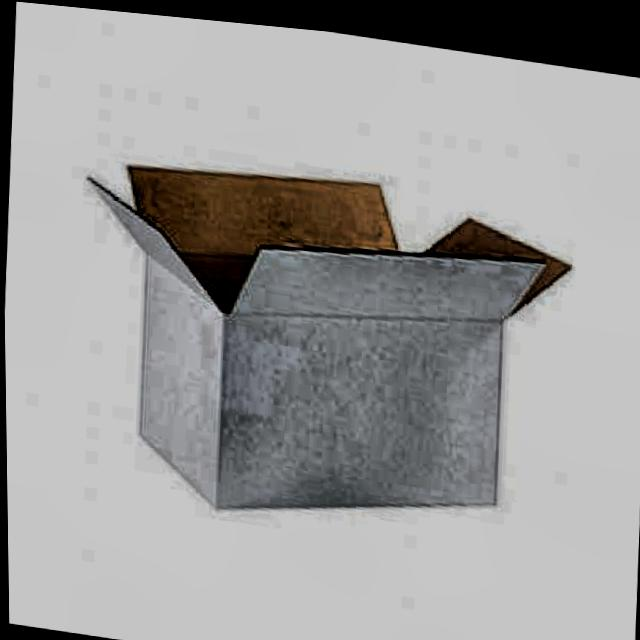Cardbox: (50, 119, 589, 539)
